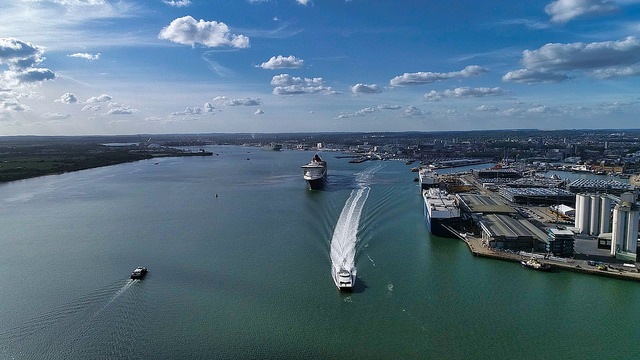PCC: (420, 187, 460, 235), (418, 167, 436, 184)
boat: (328, 264, 363, 292), (127, 264, 154, 280)
cruise_ship: (300, 156, 332, 191)
